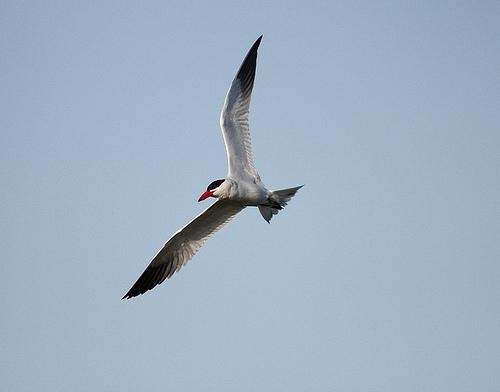bird: (118, 31, 307, 303)
